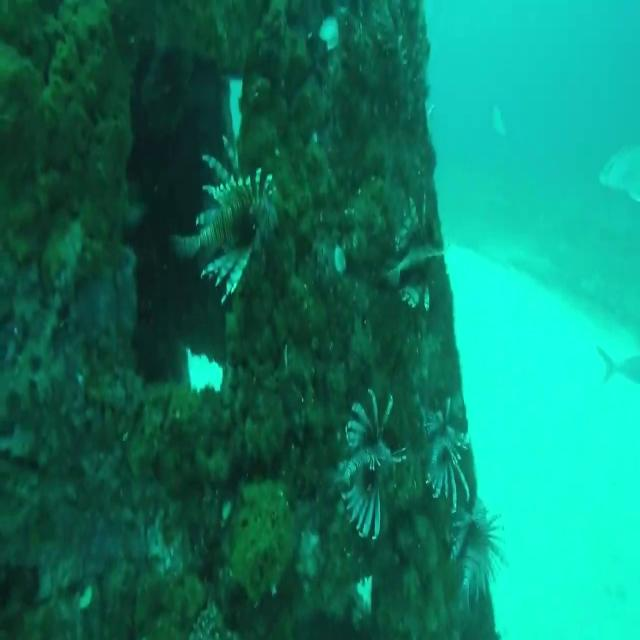Aslan Baligi: (167, 146, 286, 302), (332, 382, 406, 551), (377, 190, 448, 314), (420, 386, 474, 513)
